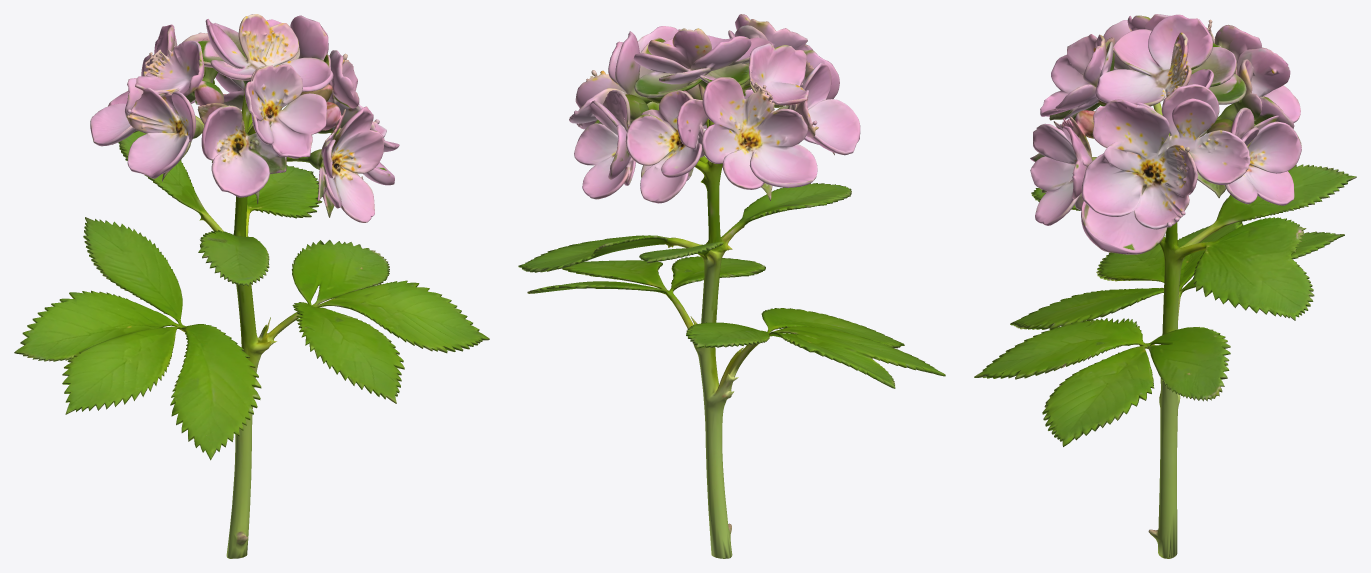
The model's file is qiangwei.glb.
3 renders of one model, left to right at view 1: azimuth 30°, elevation 25°; view 2: azimuth 150°, elevation 25°; view 3: azimuth 270°, elevation 25°, orthographic.
Parts seen in each view (by area): view 1: node_0; view 2: node_0; view 3: node_0.
Part boxes in pixels (bbox=[...]): node_0: bbox=[14, 14, 489, 558]; node_0: bbox=[518, 14, 945, 558]; node_0: bbox=[974, 14, 1356, 558].
Bounding box in the file's own units: 0.9398 × 1.19 × 0.7809.
1 material, 1 textured.
